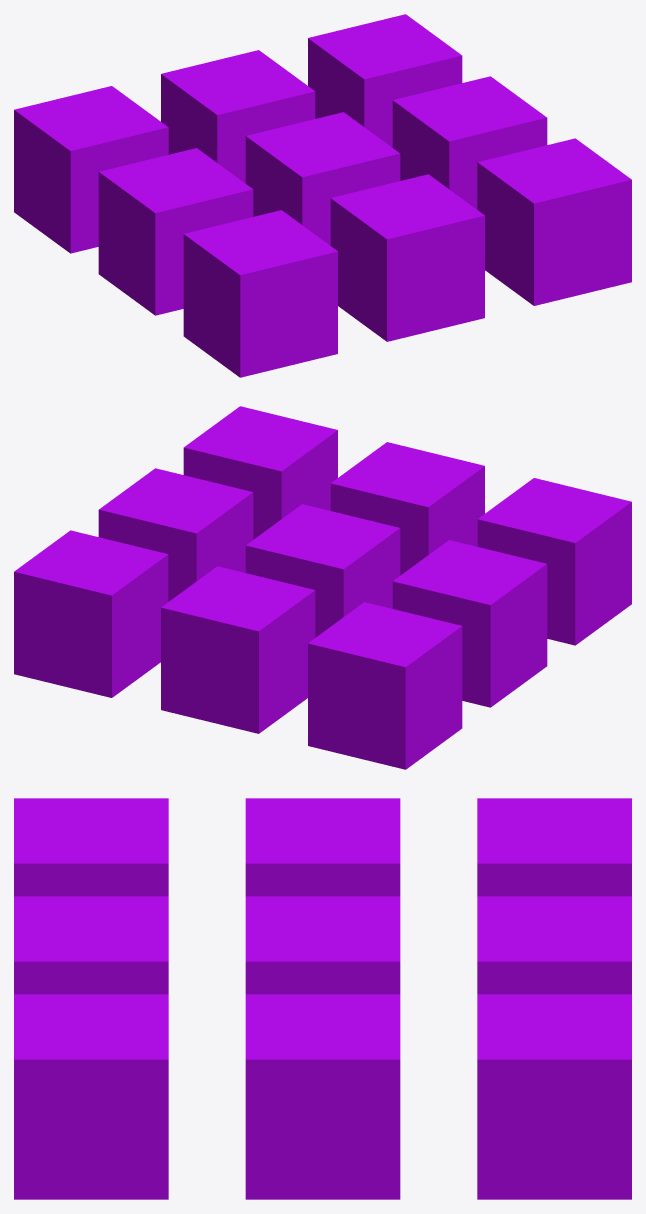
The model's file is cubez.gltf.
3 renders of one model, top to bottom at view 1: azimuth 30°, elevation 25°; view 2: azimuth 150°, elevation 25°; view 3: azimuth 270°, elevation 25°, orthographic. The views are drawn at different scales.
Visible parts, largest first — view 1: Cube.008, Cube.006, Cube.007, Cube.002, Cube.003, Cube, Cube.001, Cube.004, Cube.005; view 2: Cube.003, Cube.005, Cube.004, Cube.002, Cube.008, Cube, Cube.001, Cube.007, Cube.006; view 3: Cube.001, Cube.005, Cube.006, Cube, Cube.002, Cube.003, Cube.004, Cube.007, Cube.008.
Boxes of the visible parts, box(x1,y1,x2,y2) form: Cube.008: box(183, 210, 337, 377); Cube.006: box(477, 138, 631, 305); Cube.007: box(330, 174, 484, 341); Cube.002: box(98, 148, 253, 315); Cube.003: box(14, 86, 168, 253); Cube: box(245, 112, 400, 245); Cube.001: box(392, 76, 547, 209); Cube.004: box(161, 50, 315, 183); Cube.005: box(308, 14, 462, 147); Cube.003: box(308, 602, 462, 769); Cube.005: box(14, 530, 168, 697); Cube.004: box(161, 566, 315, 733); Cube.002: box(392, 540, 547, 707); Cube.008: box(477, 478, 631, 645); Cube: box(245, 504, 400, 637); Cube.001: box(98, 468, 253, 601); Cube.007: box(330, 442, 484, 575); Cube.006: box(183, 406, 337, 539); Cube.001: box(245, 994, 400, 1199); Cube.005: box(477, 994, 631, 1199); Cube.006: box(14, 994, 168, 1199); Cube: box(245, 896, 400, 994); Cube.002: box(245, 798, 400, 896); Cube.003: box(477, 798, 631, 896); Cube.004: box(477, 896, 631, 994); Cube.007: box(14, 896, 168, 994); Cube.008: box(14, 798, 168, 896).
Size of the model in its own units: 8 by 2 by 8.
1 material, 1 textured.
